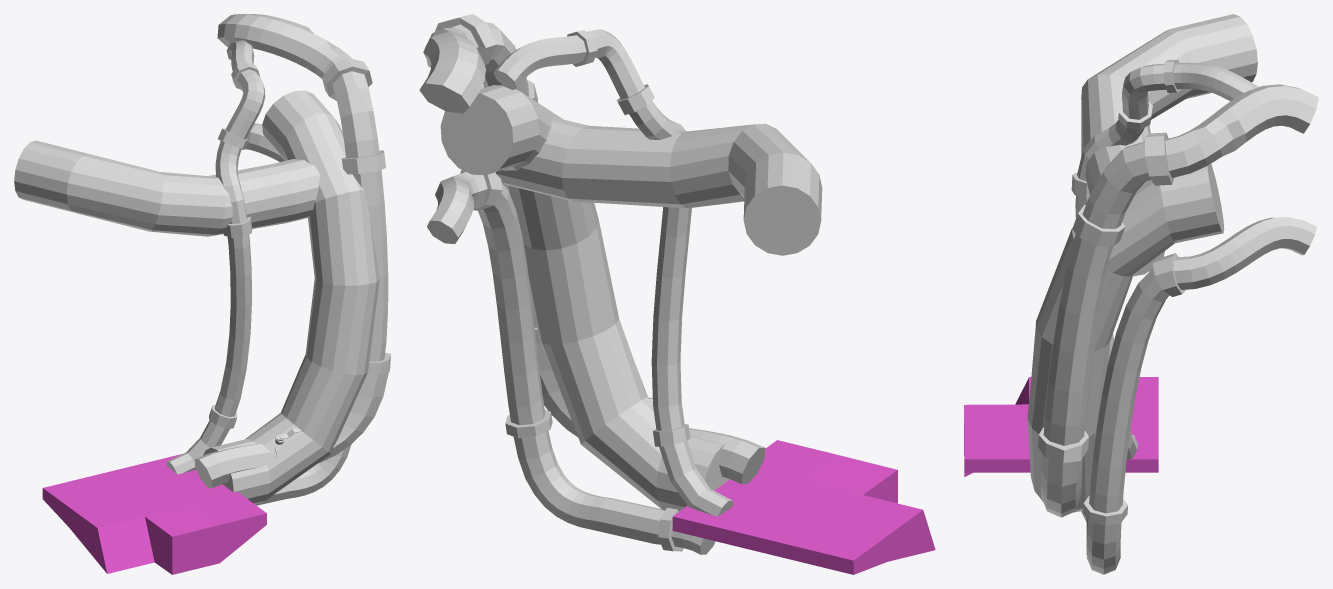
Rendered from PIPENOTEXTURELEVER(1).fbx.
3 views of the same model, side by side, from view 1: azimuth 30°, elevation 25°; view 2: azimuth 150°, elevation 25°; view 3: azimuth 270°, elevation 25° (orthographic). The views are drawn at different scales.
Parts seen in each view (by area): view 1: Cylinder, Cylinder.002, BoxBund, pipeMain, pipe3, pipe2; view 2: Cylinder, Cylinder.002, BoxBund, pipe2, pipe3, pipeMain; view 3: pipeMain, pipe2, Cylinder, Cylinder.002, BoxBund, pipe3.
Boxes of the visible parts, x1,y1,x2,y2 form: Cylinder: (203,90,379,504); Cylinder.002: (14,140,319,236); BoxBund: (42,454,266,574); pipeMain: (194,14,390,488); pipe3: (167,40,265,474); pipe2: (241,123,350,505); Cylinder: (440,85,729,511); Cylinder.002: (496,117,822,255); BoxBund: (672,440,935,574); pipe2: (427,170,715,554); pipe3: (493,29,732,516); pipeMain: (419,14,765,484); pipeMain: (1038,84,1318,517); pipe2: (1081,217,1316,574); Cylinder: (1027,164,1224,512); Cylinder.002: (1081,14,1257,276); BoxBund: (964,377,1158,476); pipe3: (1071,59,1258,459).
Bounding box in the file's own units: 951 × 1164 × 748.
